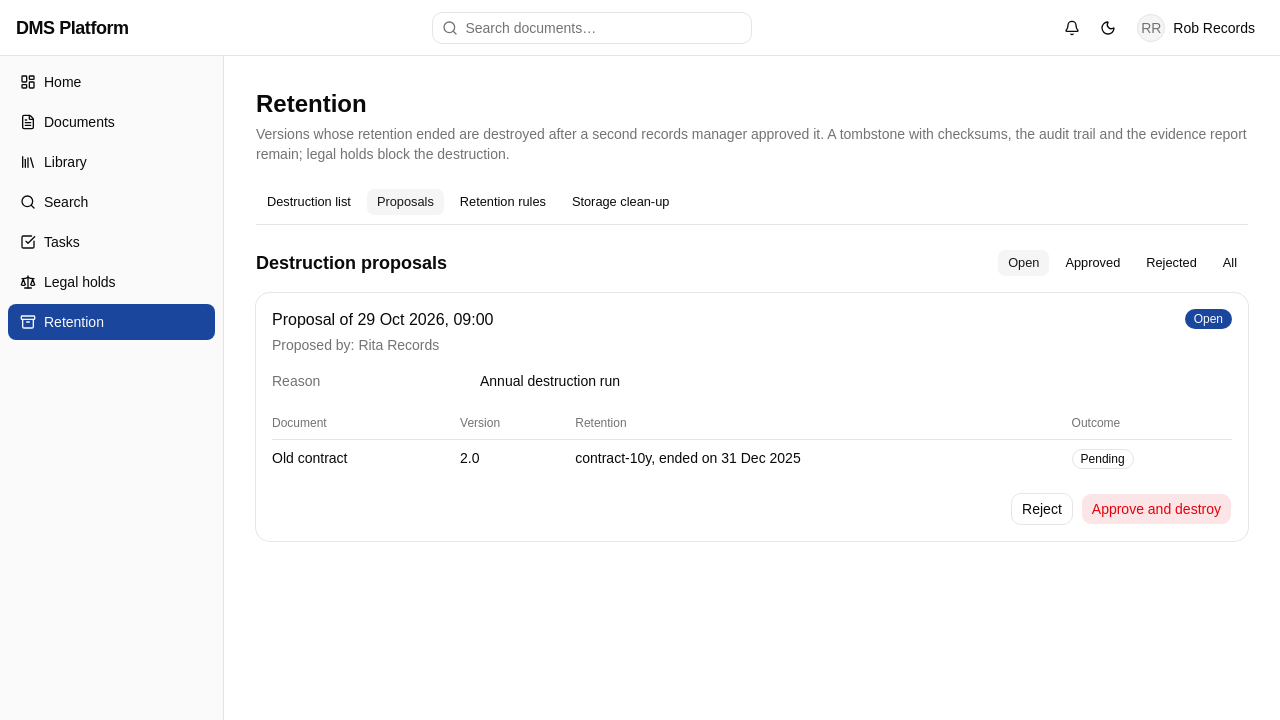
Test: destruction proposals › explains the four-eyes refusal
Step 1. Click the button "Reject" → (1042, 509), box [1011, 493, 1073, 525]
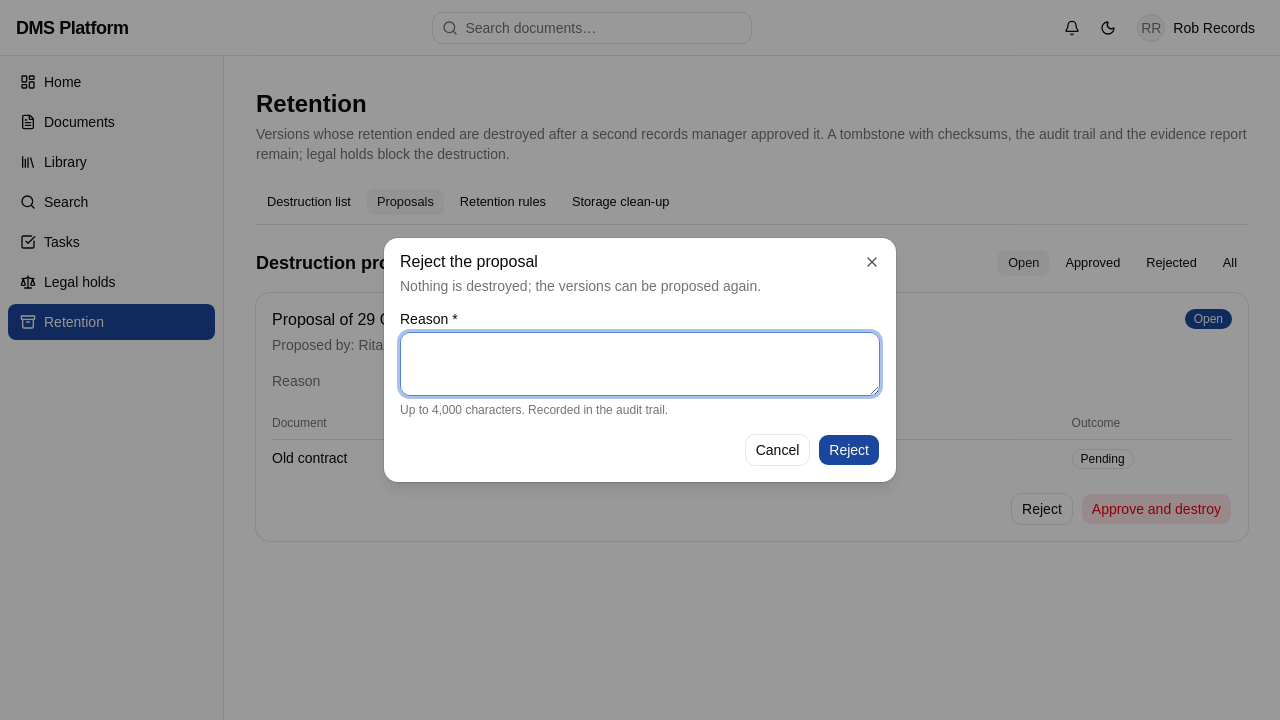
Step 2. Type "No" into the text box labelled "Reason *" → (640, 364), box [400, 332, 880, 396]
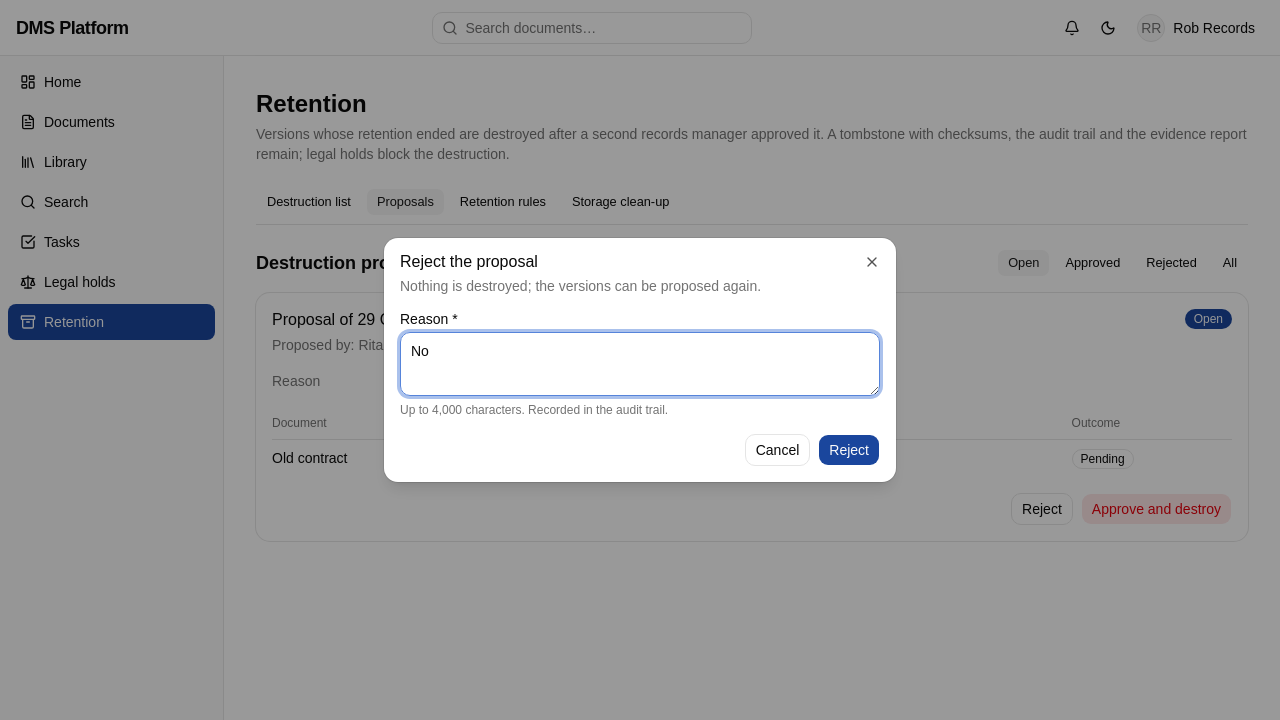
Step 3. Click the button "Reject" → (849, 450), box [818, 434, 880, 466]
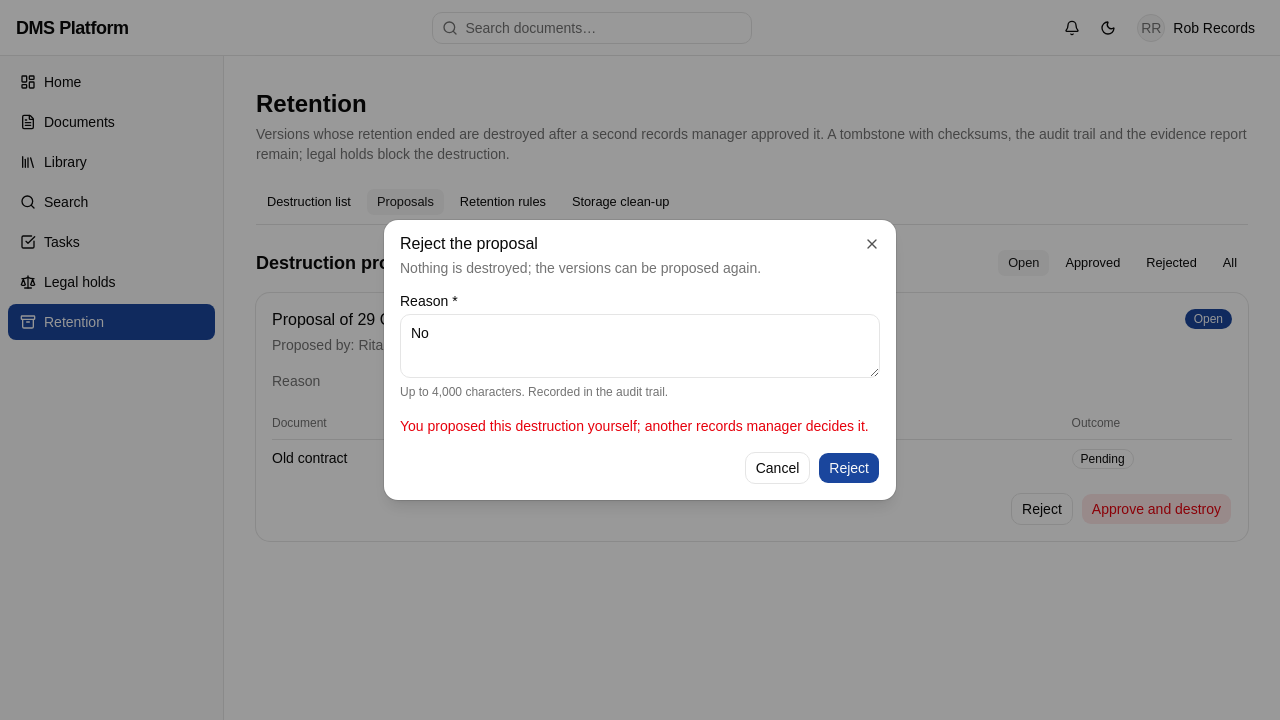
Expected: the text "You proposed this destruction yourself; another records manager decides it." is shown, [400, 416, 880, 436]
